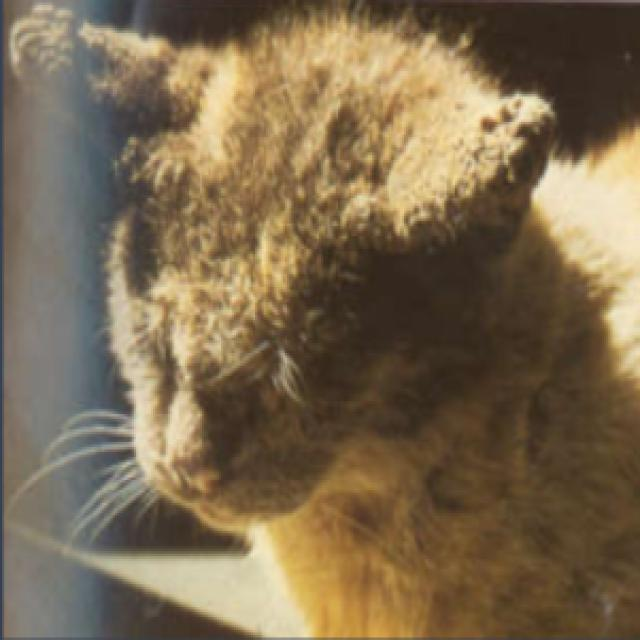ghe: (220, 78, 522, 413)
